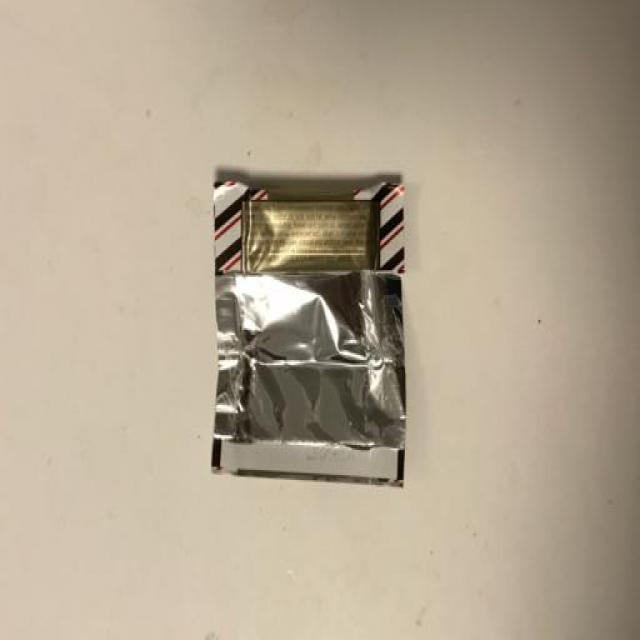plastic: (180, 157, 425, 531)
